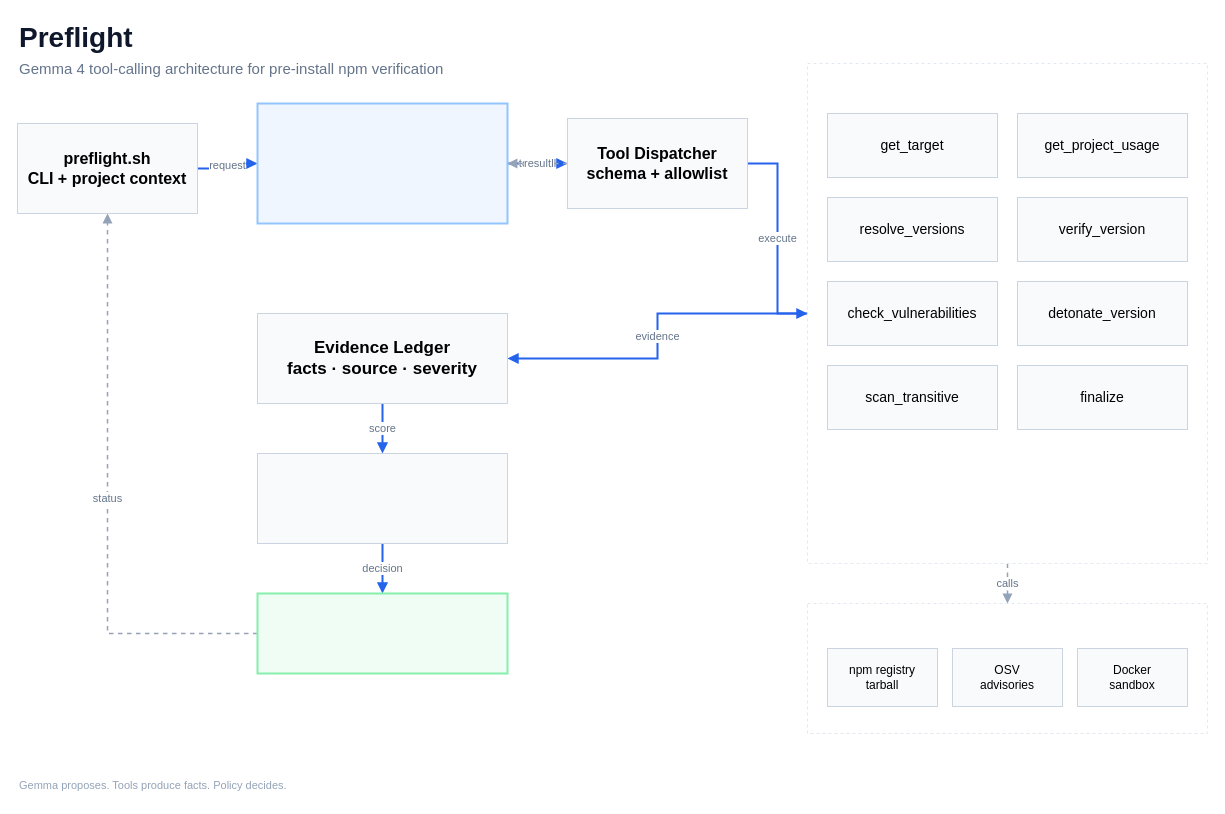
This 1225x814 diagram has some shape labels left out. The box of each missing label's shape, as (x1, y1, x2, y2) in pixels:
External: (806, 602, 1208, 734)
Gemma 4 Agent plans · selects tools · reads results: (256, 102, 508, 224)
Policy Engine hard gates · risk score: (256, 452, 508, 544)
Tools: (806, 62, 1208, 564)
Verdict SAFE / VULNERABLE: (256, 592, 508, 674)
